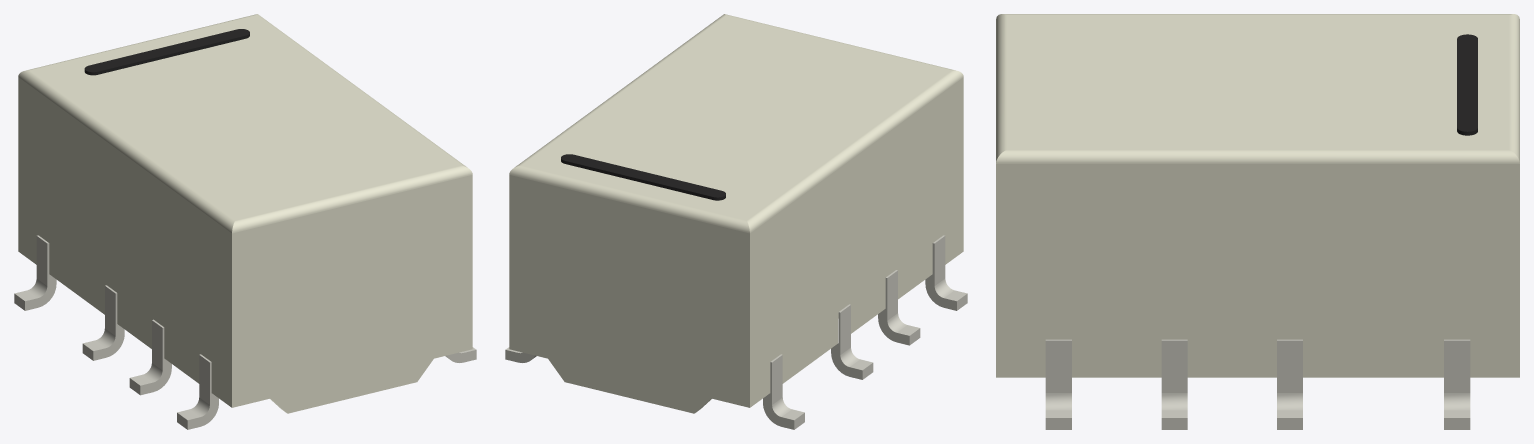
Rendered from kc-relay_dpdt_omron_g6k-2f-y.glb.
3 renders of one model, left to right at view 1: azimuth 30°, elevation 25°; view 2: azimuth 150°, elevation 25°; view 3: azimuth 270°, elevation 25°, orthographic. The views are drawn at different scales.
Visible parts, largest first — view 1: 0.75_0.75_0.6666666666666666_0, 0.6666666666666666_0.6666666666666666_0.5833333333333334_0.8, 0_0_0_0; view 2: 0.75_0.75_0.6666666666666666_0, 0.6666666666666666_0.6666666666666666_0.5833333333333334_0.8, 0_0_0_0; view 3: 0.75_0.75_0.6666666666666666_0, 0.6666666666666666_0.6666666666666666_0.5833333333333334_0.8, 0_0_0_0.
Boxes of the visible parts, <box> form: 0.75_0.75_0.6666666666666666_0: <box>18,14,472,413</box>; 0.6666666666666666_0.6666666666666666_0.5833333333333334_0.8: <box>14,235,476,429</box>; 0_0_0_0: <box>84,29,249,75</box>; 0.75_0.75_0.6666666666666666_0: <box>509,14,963,413</box>; 0.6666666666666666_0.6666666666666666_0.5833333333333334_0.8: <box>505,235,967,429</box>; 0_0_0_0: <box>561,154,725,200</box>; 0.75_0.75_0.6666666666666666_0: <box>996,14,1519,377</box>; 0.6666666666666666_0.6666666666666666_0.5833333333333334_0.8: <box>1045,339,1470,429</box>; 0_0_0_0: <box>1457,34,1477,135</box>.
Bounding box in the file's own units: 0.78 × 0.558 × 1.
